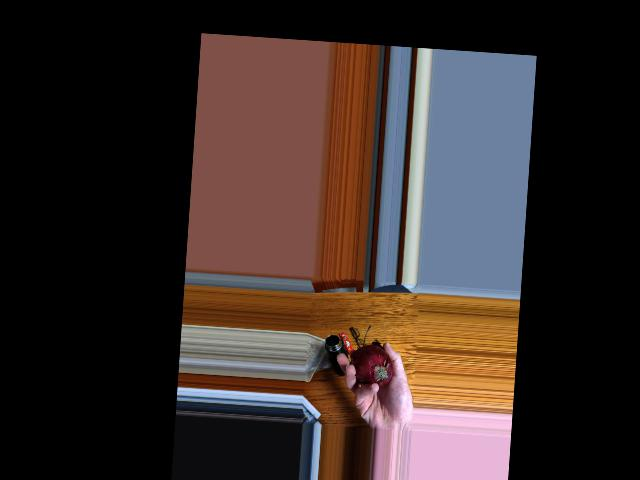onion: (354, 347, 397, 393)
